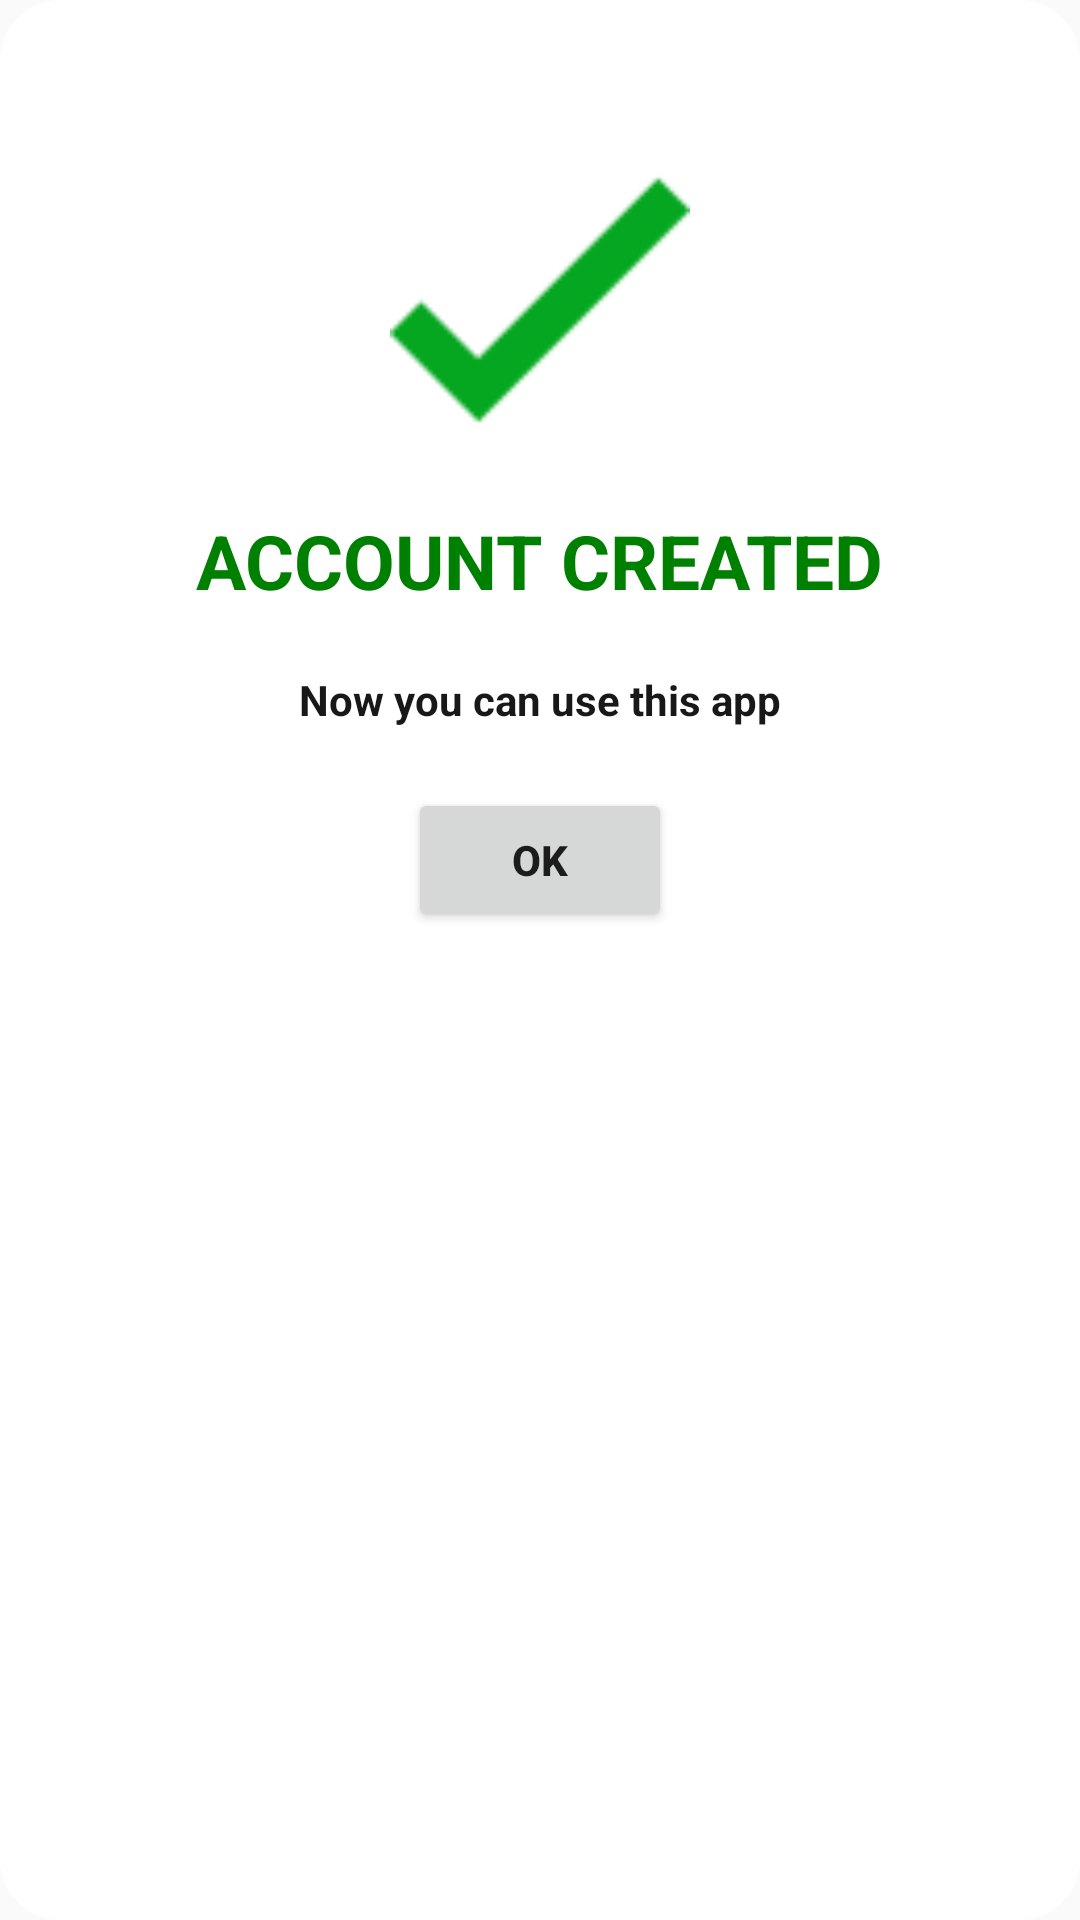

Icon click points for this 1080 x 1920 phone screenshot, format point (x, y):
tick: point (540, 300)
